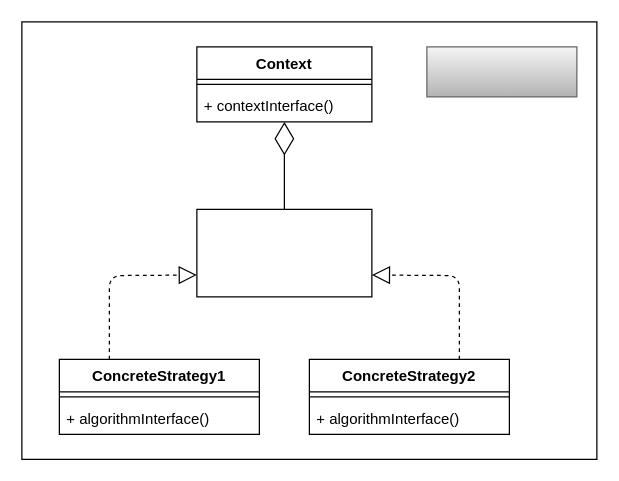
This 619x481 diagram has some shape labels left out. The shapes that lost their labels are listed below. From the top down, each one's box as (x1, y1, x2, y2) in pixels, then its label:
(426, 46, 577, 97): Strategy
(196, 208, 372, 297): <<Interface>> Strategy algorithmInterface()
